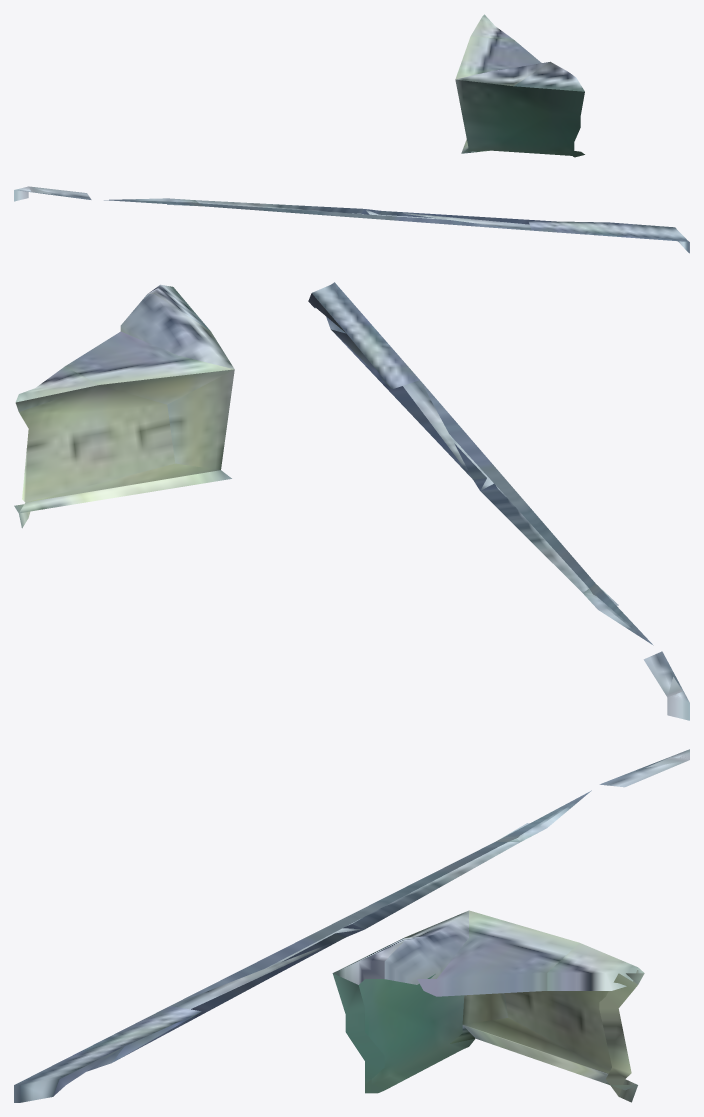
3 renders of one model, top to bottom at view 1: azimuth 30°, elevation 25°; view 2: azimuth 150°, elevation 25°; view 3: azimuth 270°, elevation 25°, orthographic. The views are drawn at different scales.
Visible parts, largest first — view 1: 30436272704370617451_0; view 2: 30436272704370617451_0; view 3: 30436272704370617451_0.
Part boxes in pixels (box(x1,y1,x2,y2)): 30436272704370617451_0: box(14, 14, 689, 253); 30436272704370617451_0: box(14, 282, 689, 720); 30436272704370617451_0: box(14, 749, 689, 1102).
Bounding box in the file's own units: 19.33 × 4.01 × 16.04.
1 material, 1 textured.
